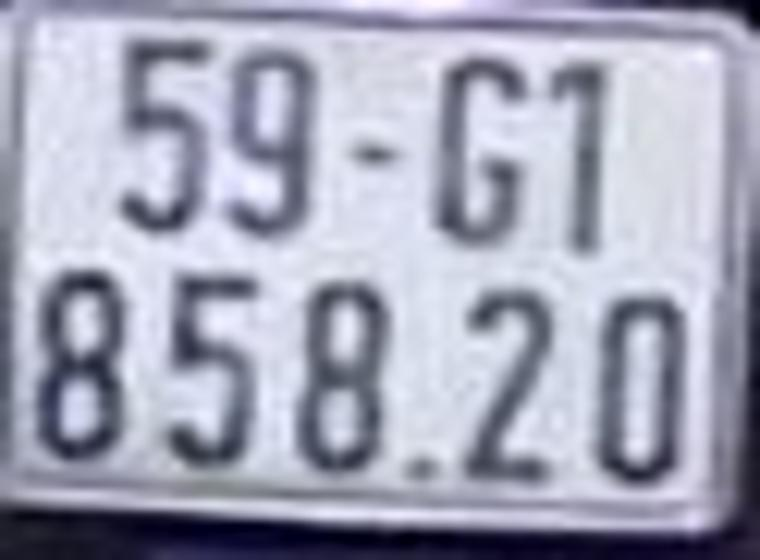-: (337, 136, 400, 176)
.: (400, 450, 444, 496)
0: (591, 291, 686, 484)
1: (543, 57, 614, 263)
2: (449, 285, 563, 490)
5: (161, 270, 262, 468), (114, 34, 209, 238)
8: (40, 269, 139, 463), (300, 276, 391, 468)
9: (222, 42, 313, 240)
G: (432, 48, 532, 259)
